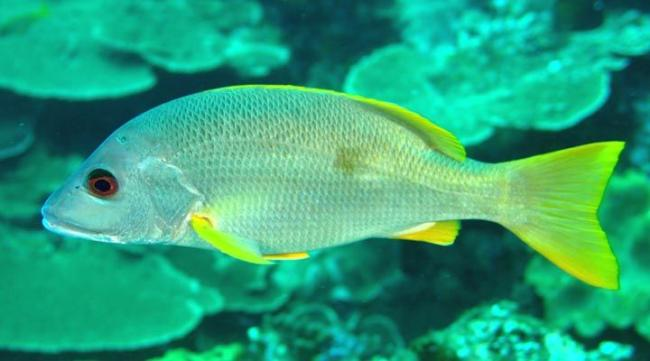fish: (40, 83, 624, 291)
